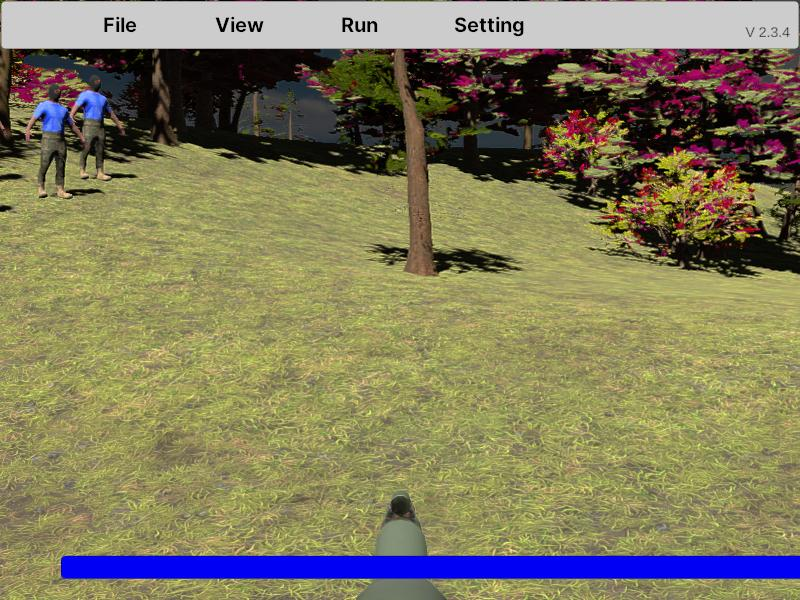Human: (25, 85, 86, 200), (68, 76, 124, 182)
